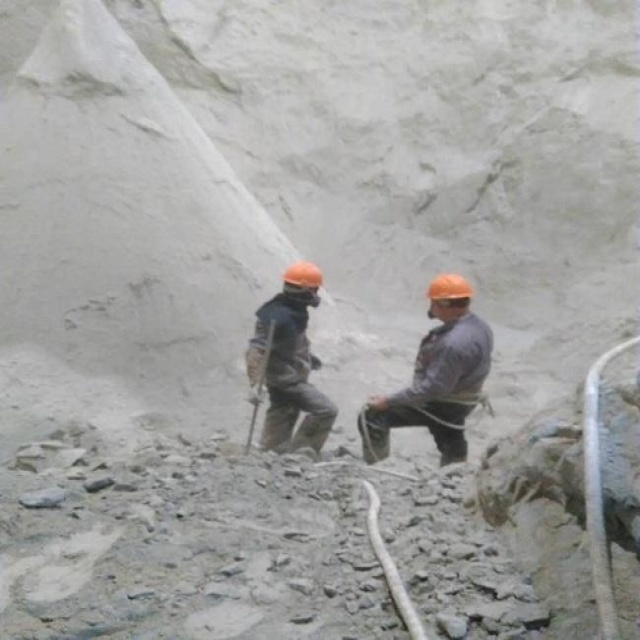yellow: (428, 273, 472, 323), (282, 258, 325, 308)
